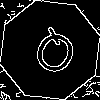Q: (25, 25, 82, 86)
